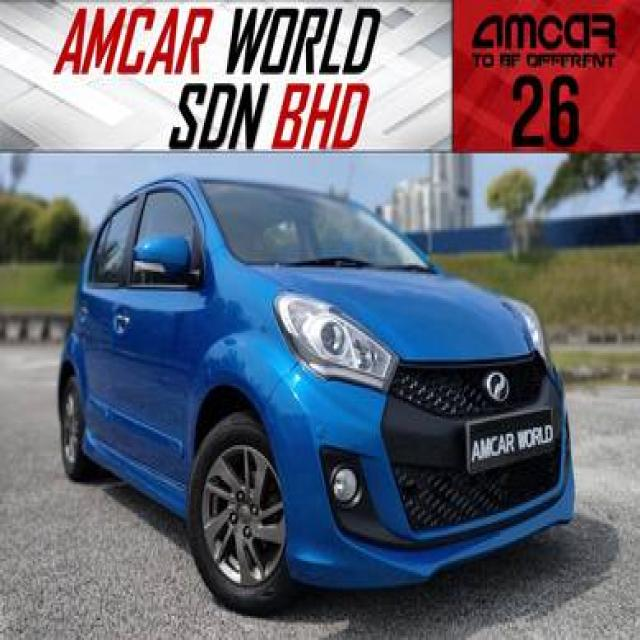PeroduaMyvi: (55, 171, 578, 614)
